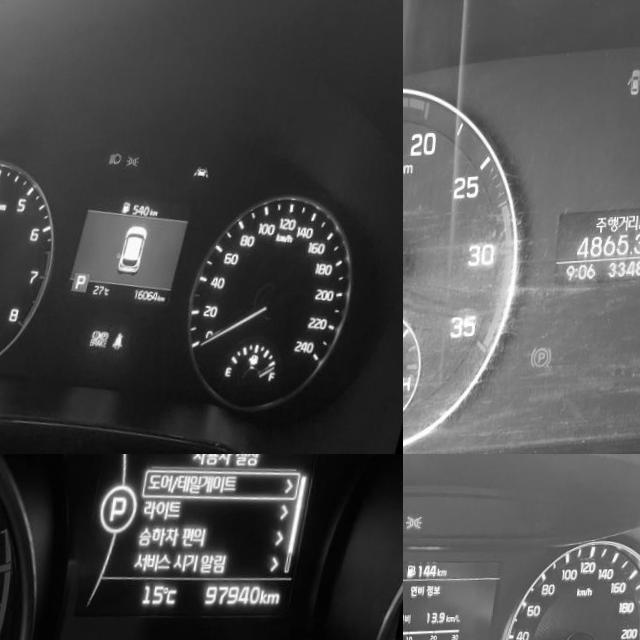LaneCenteringOff: (197, 168, 214, 183)
Low beam: (111, 154, 126, 170)
SideLamp: (407, 516, 427, 533), (128, 157, 144, 171)
